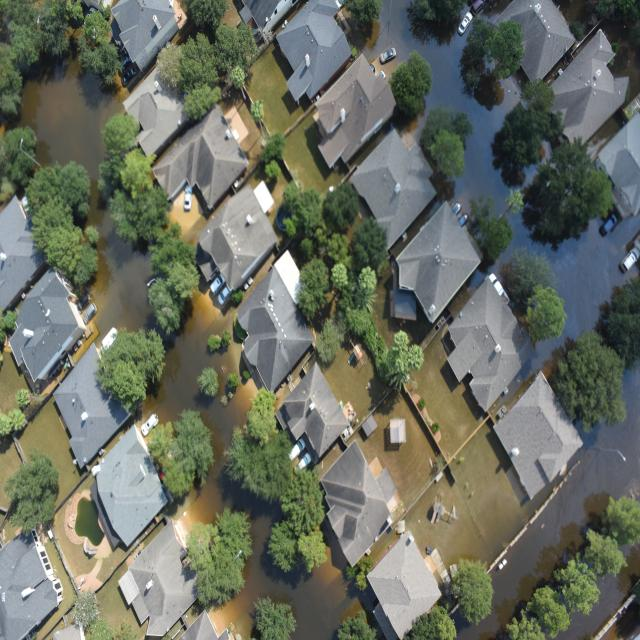fire: (457, 367, 640, 640), (18, 55, 151, 339), (389, 0, 521, 211), (142, 292, 257, 523), (210, 517, 361, 640), (509, 212, 640, 343), (558, 545, 640, 640)
